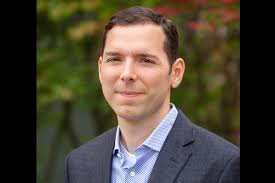noMask: (85, 5, 190, 121)
